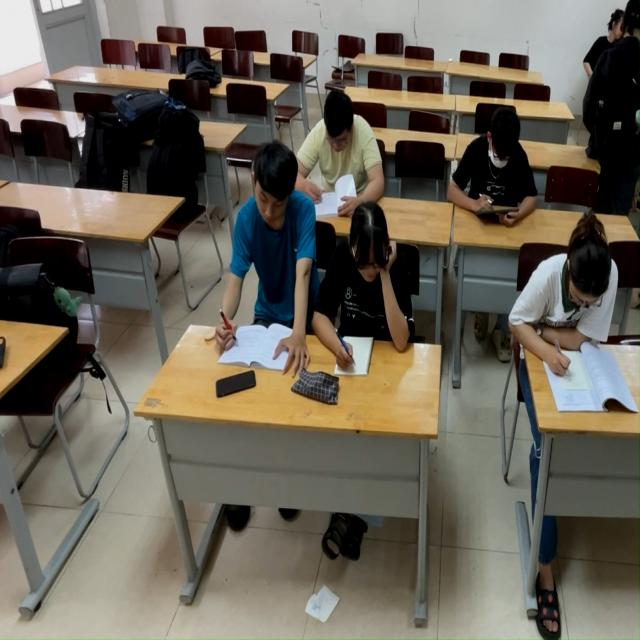read: (506, 206, 640, 427), (211, 138, 320, 375), (311, 195, 423, 379), (446, 103, 552, 233), (297, 87, 394, 222)
